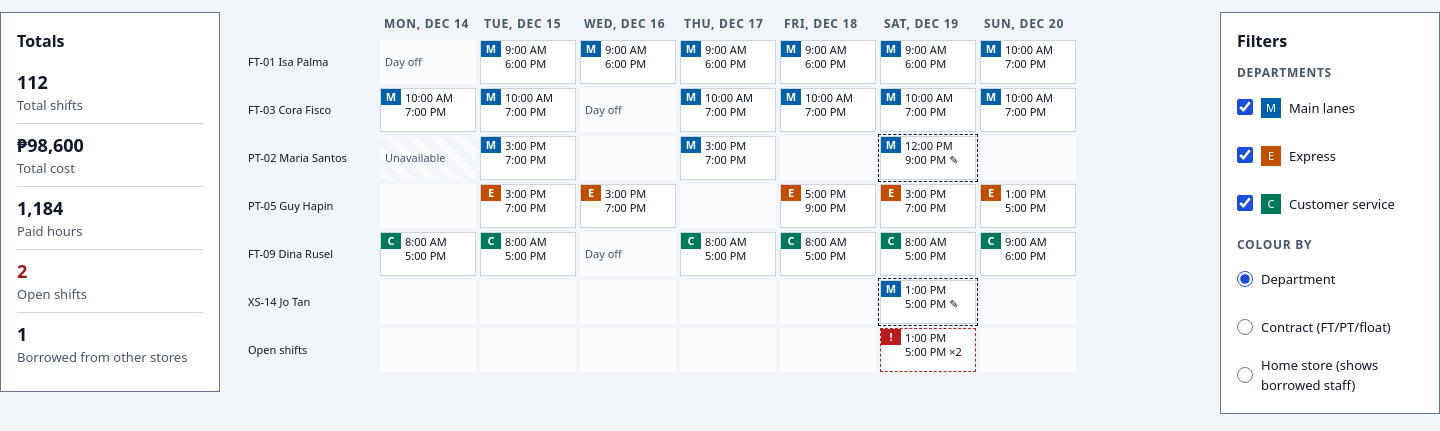
RosterGrid — Week / Fortnight / Four weeks (13.2) › department filters hide rows and chips; colour-by swaps the letter
The image size is (1440, 431).
Click the checkbox labelled "E Express".
click(1245, 155)  # box [1237,147,1253,163]
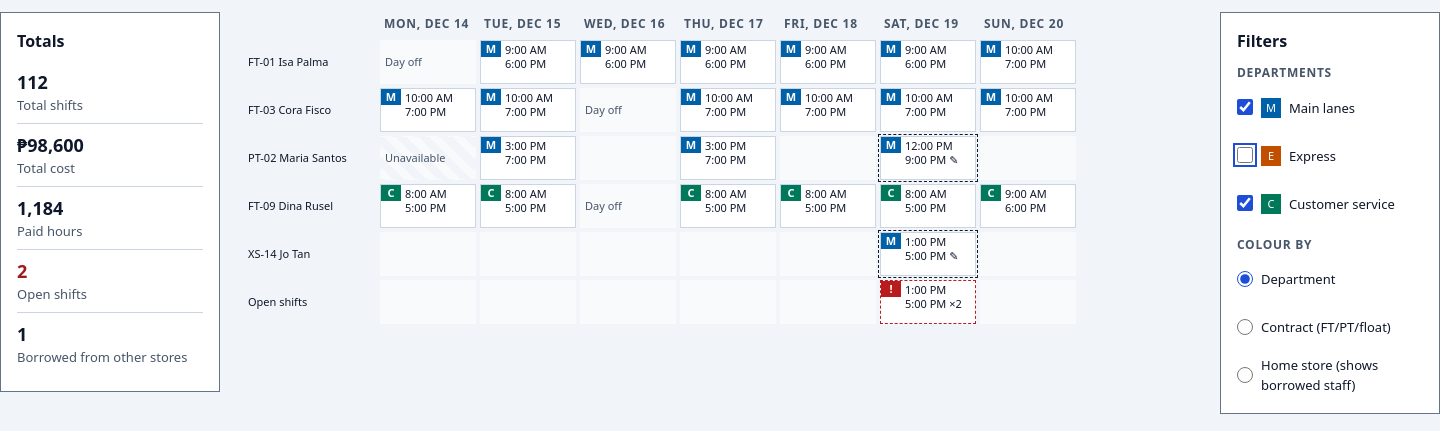
Check: the column heading "PT-05 Guy Hapin" is gone
Click the radio button labelled "Home store (shows borrowed staff)".
click(1245, 375)  # box [1237,367,1253,383]
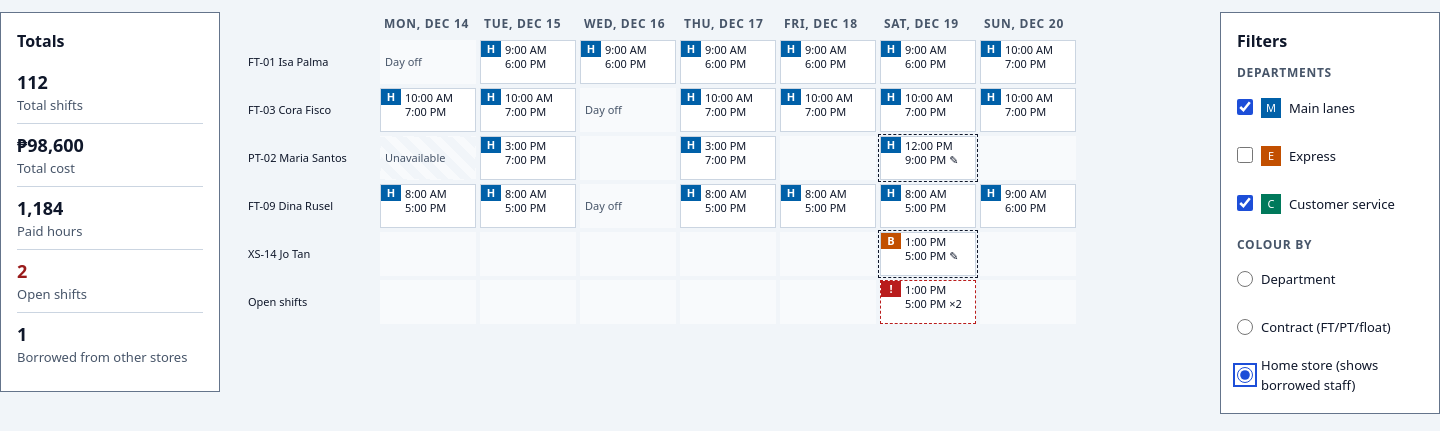
Check: the button with aria-label "XS-14 Jo Tan, Sat, Dec 19" shows "B", box [880,232,976,276]
Click the radio button labelled "Contract (FT/PT/float)".
click(1245, 327)  # box [1237,319,1253,335]
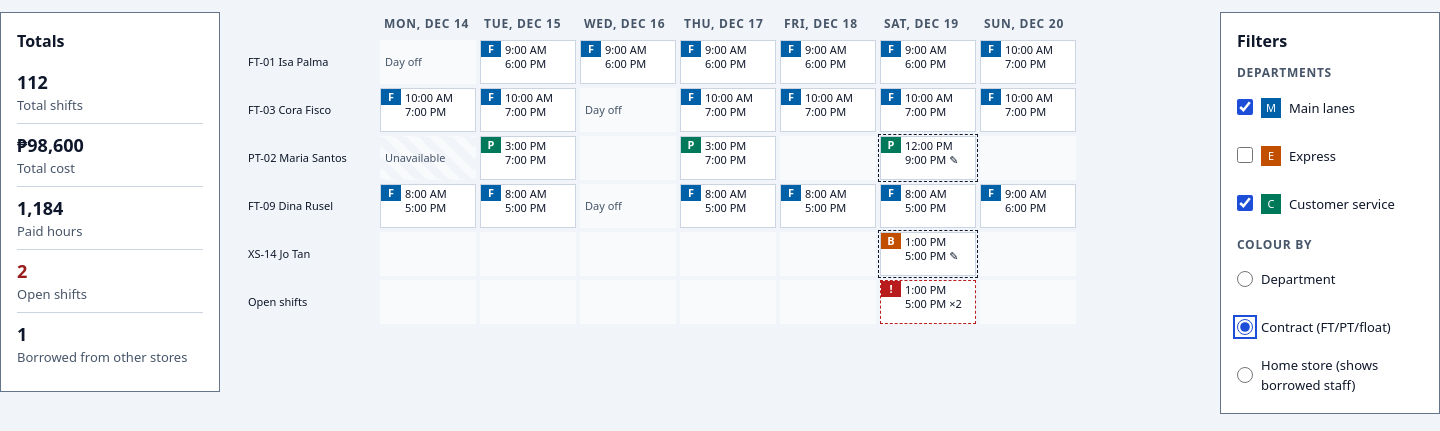
Check: the button with aria-label "PT-02 Maria Santos, Tue, Dec 15" shows "P", box [480,136,576,180]
Click the checkbox labelled "M Main lanes".
click(1245, 107)  # box [1237,99,1253,115]
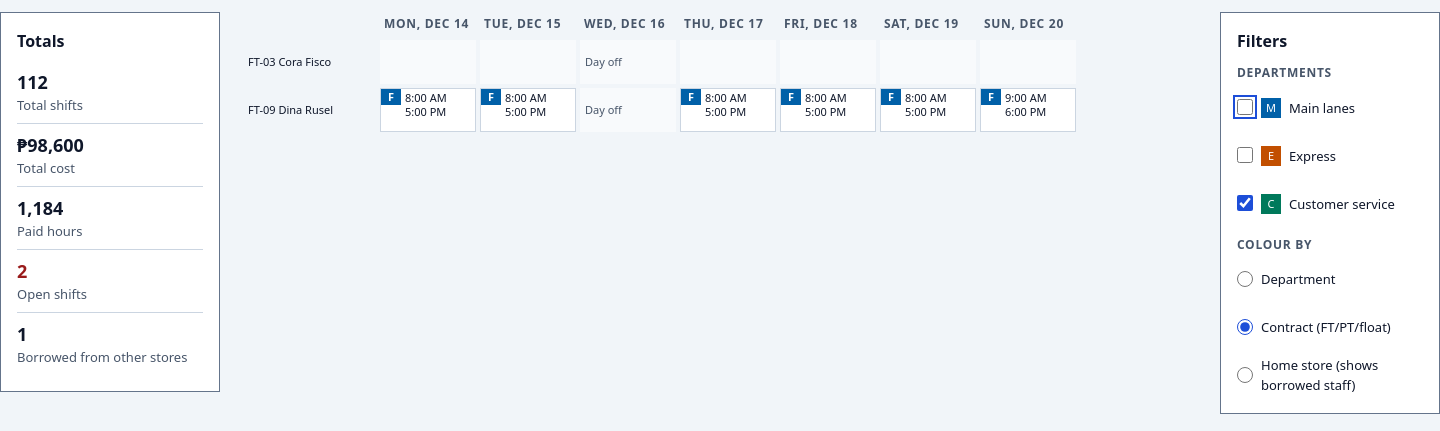
Click the checkbox labelled "C Customer service".
click(1245, 203)  # box [1237,195,1253,211]
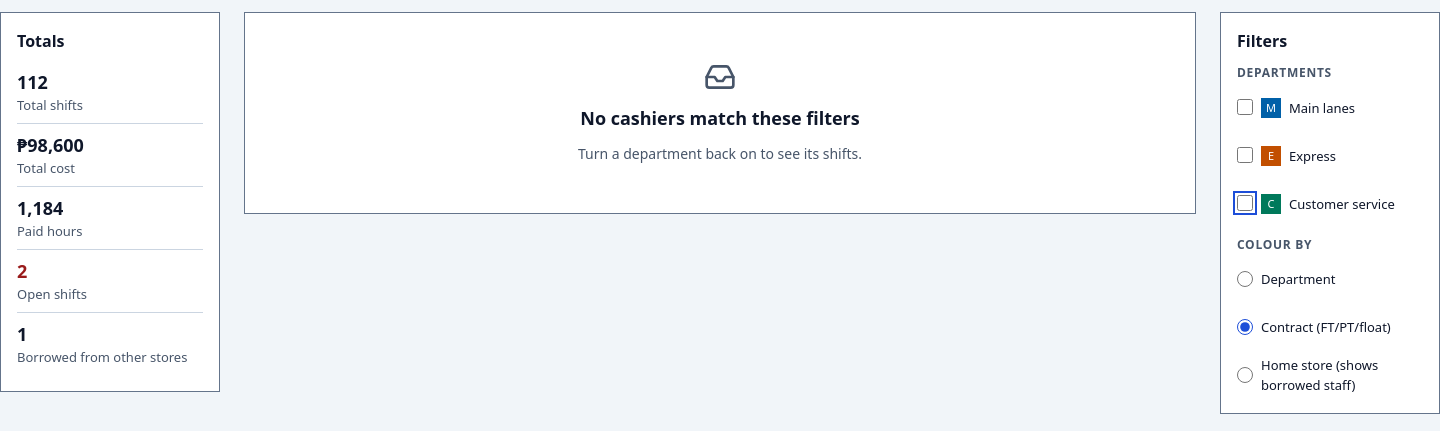
Check: the heading "No cashiers match these filters" is shown, box [580,105,860,131]
